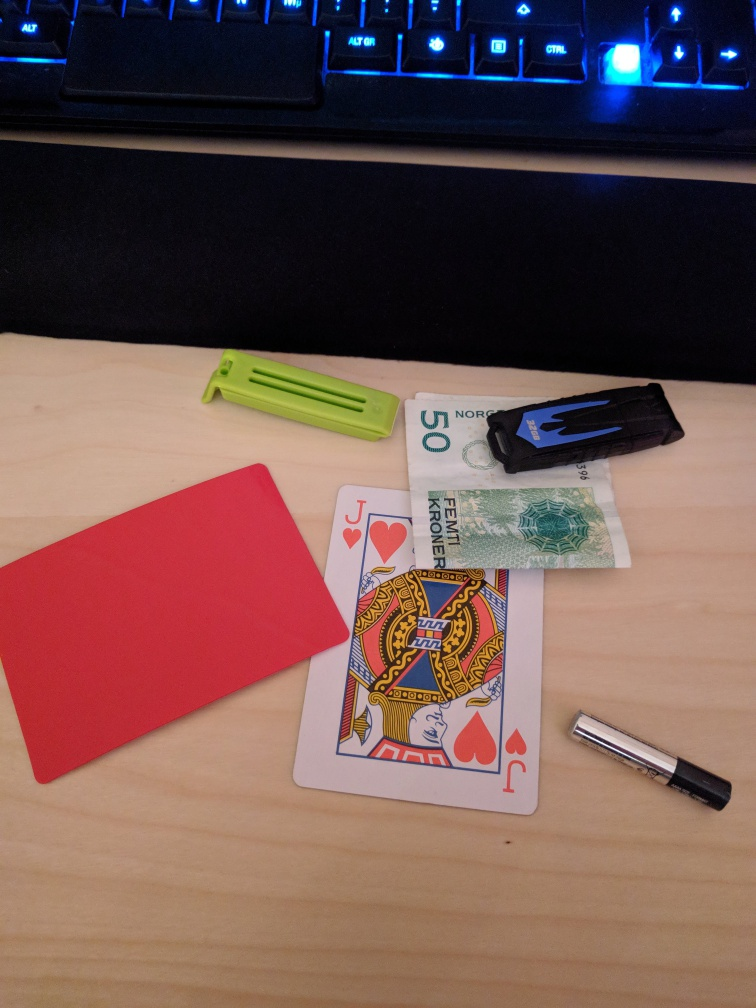jack: (291, 484, 546, 815)
